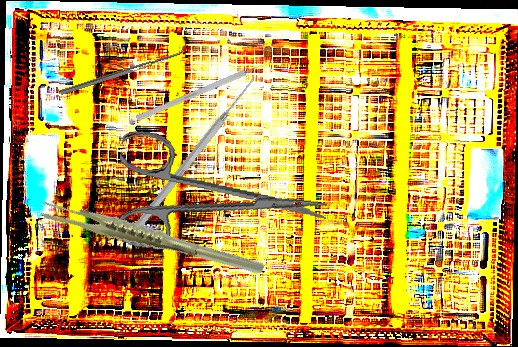Hook Surgical: (135, 58, 273, 122)
Iris Scissors: (107, 127, 335, 274)
Pusher: (131, 74, 259, 234)
Spatula Surgical: (58, 43, 190, 96)
Tissue Forceps: (37, 164, 266, 314)
